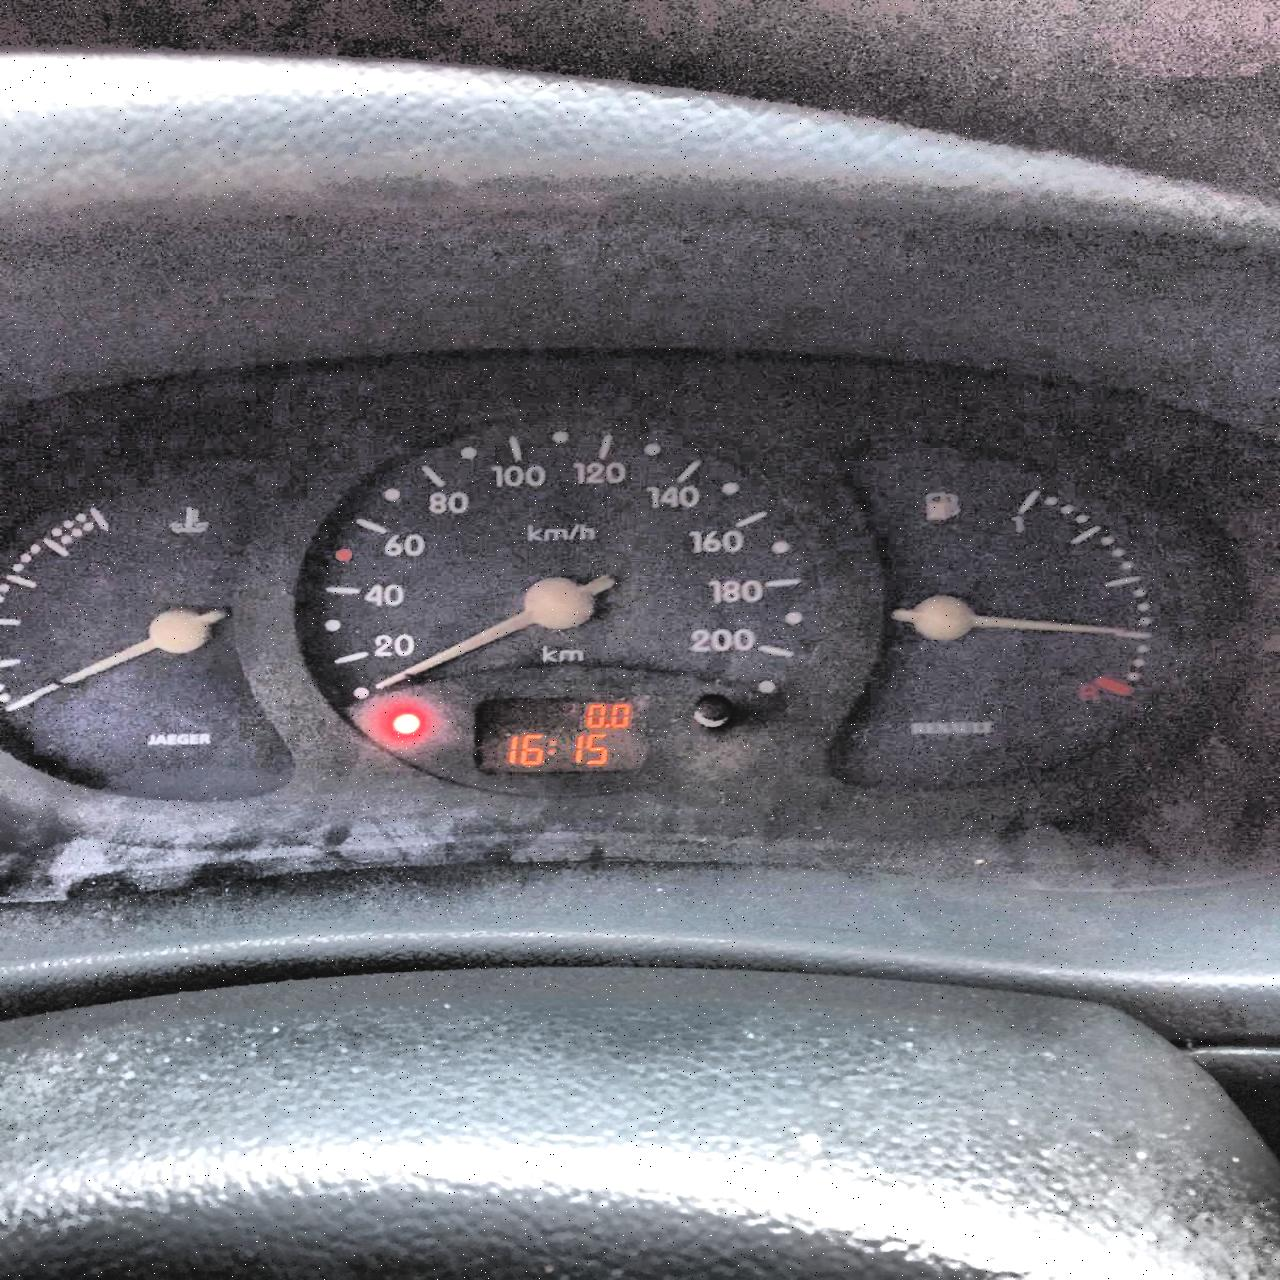-: (602, 722, 610, 727)
0: (585, 703, 606, 728), (610, 702, 629, 728)
1: (573, 735, 584, 763), (508, 735, 517, 763)
5: (584, 733, 607, 764)
6: (519, 734, 543, 764)
X: (547, 740, 556, 755)
odometer: (469, 693, 653, 777)
